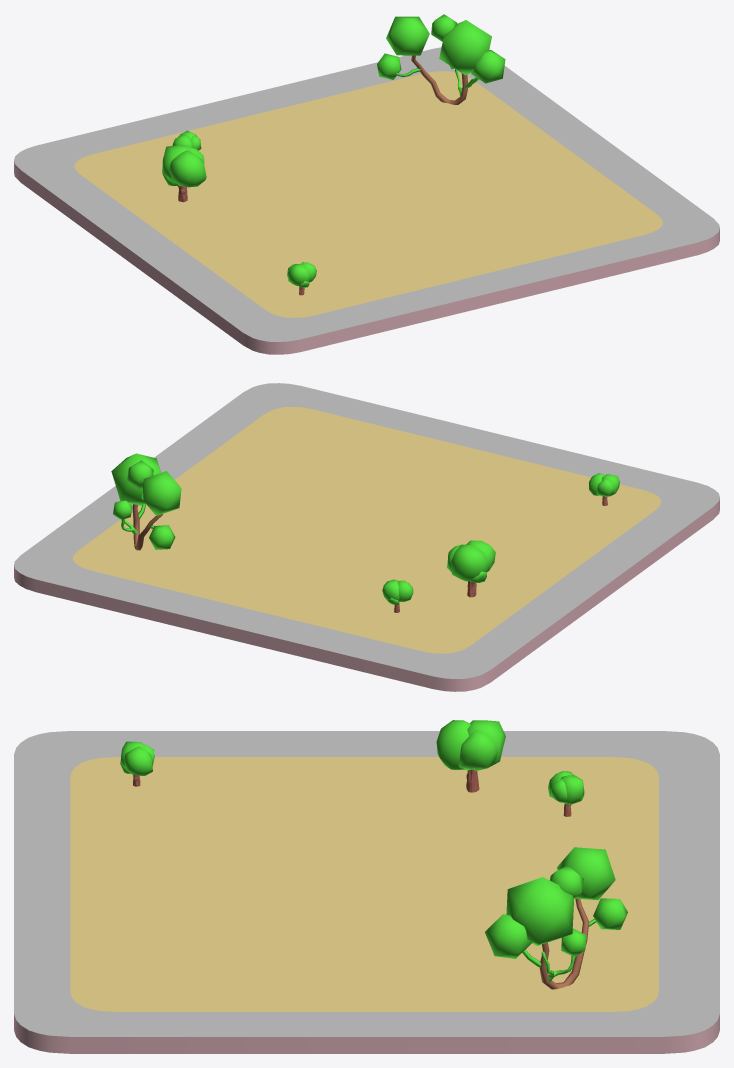
Rendered from 2 fiish platform.fbx.
The picture shows the model from 3 angles, top to bottom: view 1: azimuth 30°, elevation 25°; view 2: azimuth 150°, elevation 25°; view 3: azimuth 270°, elevation 25°; orthographic projection. The views are drawn at different scales.
Visible parts, largest first — view 1: ground, Tree_lp_11, Icosphere, Icosphere.001; view 2: ground, Tree_lp_11, Icosphere, Icosphere.002, Icosphere.001; view 3: ground, Tree_lp_11, Icosphere, Icosphere.001, Icosphere.002.
Part boxes in pixels (x1=…): ground: x1=14, y1=47, x2=719, y2=354; Tree_lp_11: x1=377, y1=14, x2=505, y2=104; Icosphere: x1=162, y1=145, x2=206, y2=187; Icosphere.001: x1=287, y1=262, x2=316, y2=287; ground: x1=14, y1=383, x2=719, y2=691; Tree_lp_11: x1=111, y1=453, x2=181, y2=550; Icosphere: x1=447, y1=540, x2=495, y2=582; Icosphere.002: x1=382, y1=579, x2=413, y2=605; Icosphere.001: x1=589, y1=473, x2=619, y2=496; ground: x1=14, y1=731, x2=719, y2=1053; Tree_lp_11: x1=485, y1=847, x2=627, y2=989; Icosphere: x1=436, y1=720, x2=505, y2=770; Icosphere.001: x1=120, y1=741, x2=154, y2=775; Icosphere.002: x1=548, y1=771, x2=584, y2=804.
Bounding box in the file's own units: 128 × 26.54 × 125.
